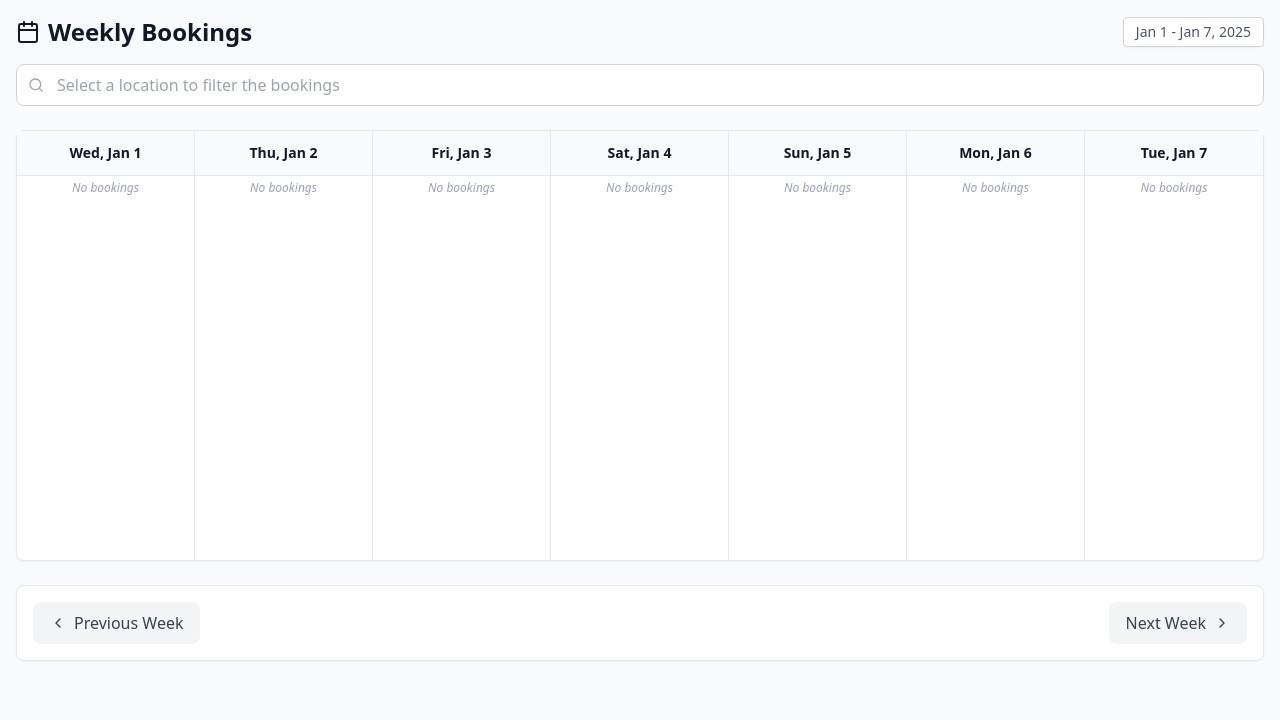
Test case: shows and hides WeekPicker on click
This screenshot has width=1280, height=720.
Step 1. Click the text "Jan 1 - Jan 7, 2025" → x=1193, y=32, box [1123,17,1264,47]
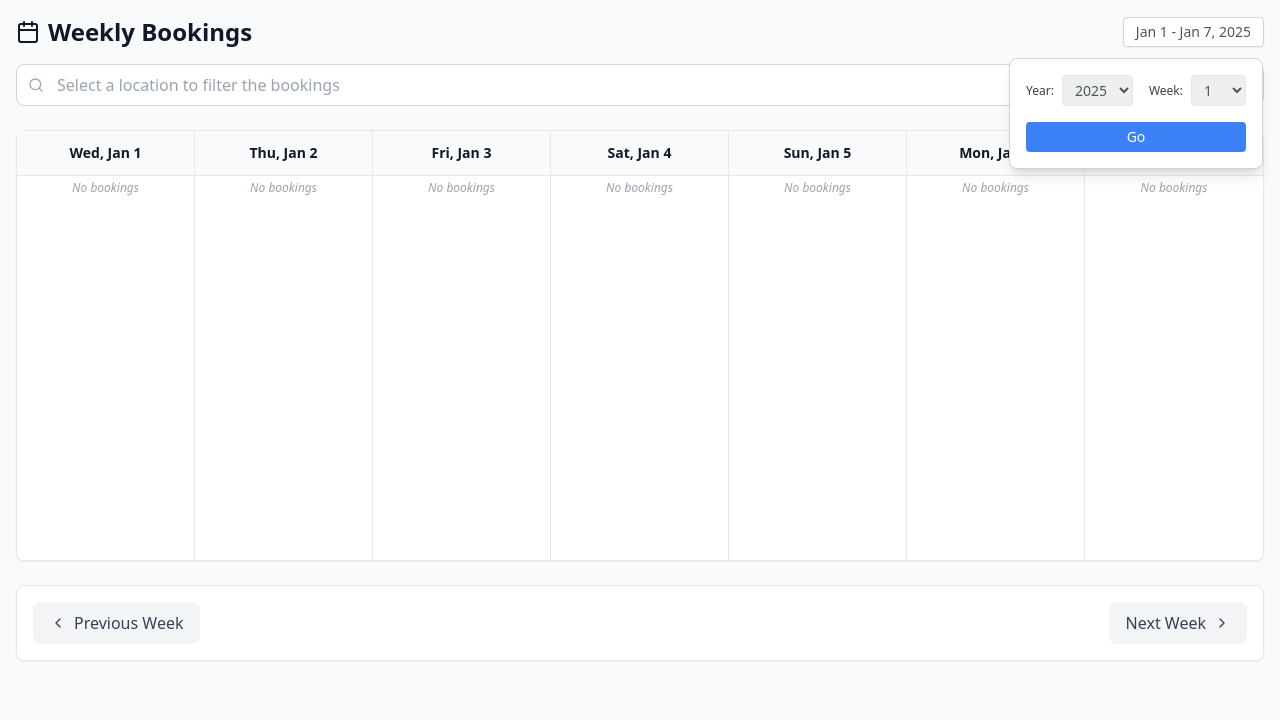
Check: the button "Go" is shown
Step 2. Click the button "Go" → x=1136, y=137, box [1026,122,1246,152]
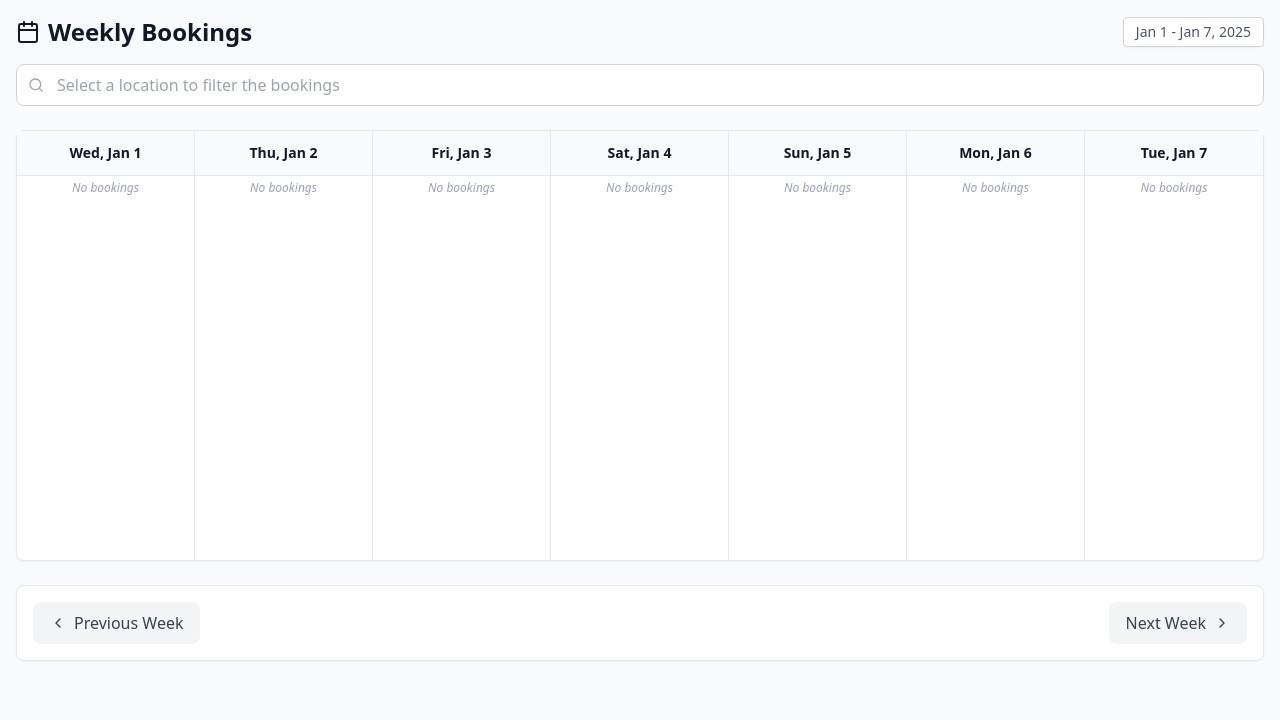
Check: the button "Go" is gone
